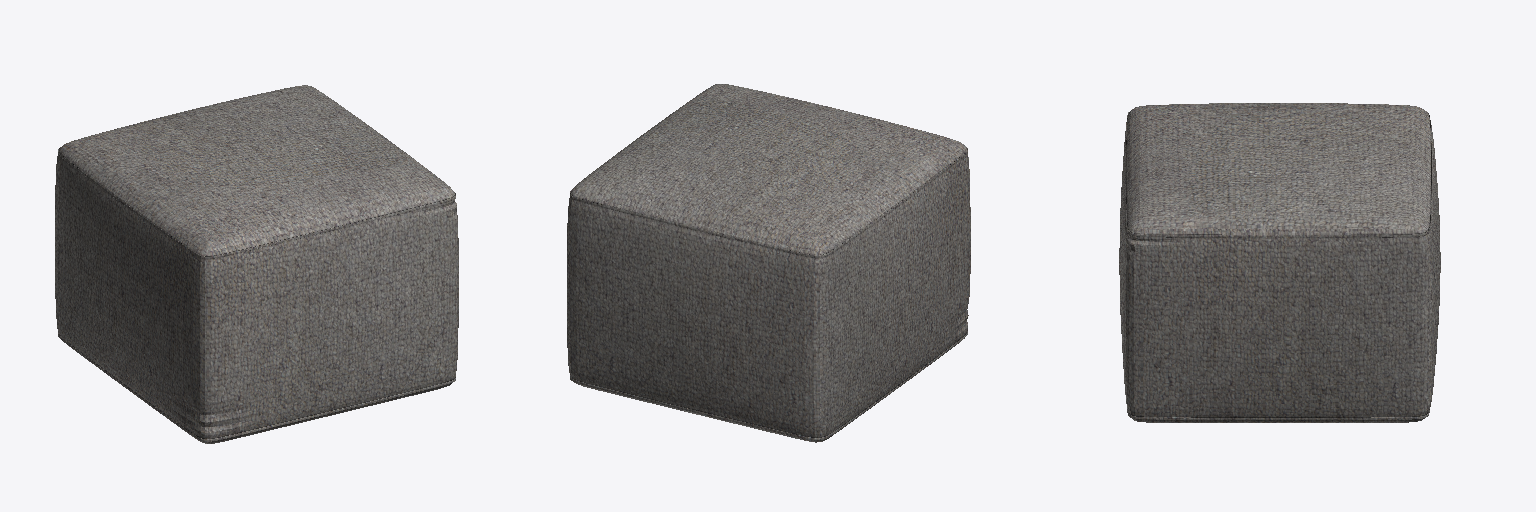
3 views of the same model, side by side, from view 1: azimuth 30°, elevation 25°; view 2: azimuth 150°, elevation 25°; view 3: azimuth 270°, elevation 25° (orthographic).
Parts seen in each view (by area): view 1: solid; view 2: solid; view 3: solid.
Boxes of the visible parts, x1,y1,x2,y2 form: solid: [55, 85, 458, 443]; solid: [567, 84, 970, 442]; solid: [1119, 103, 1440, 422].
Size of the model in its own units: 1.59 by 1.2 by 1.61.
1 materials, 1 textured.